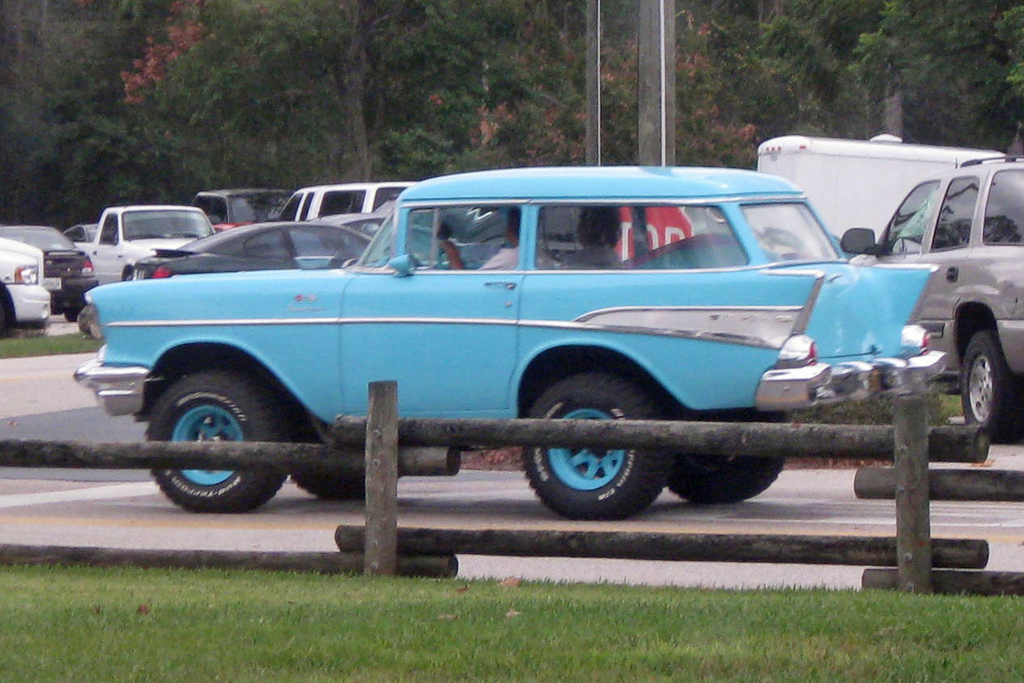Car: (83, 162, 1024, 556), (125, 224, 383, 287), (0, 224, 91, 316), (0, 240, 51, 331)
